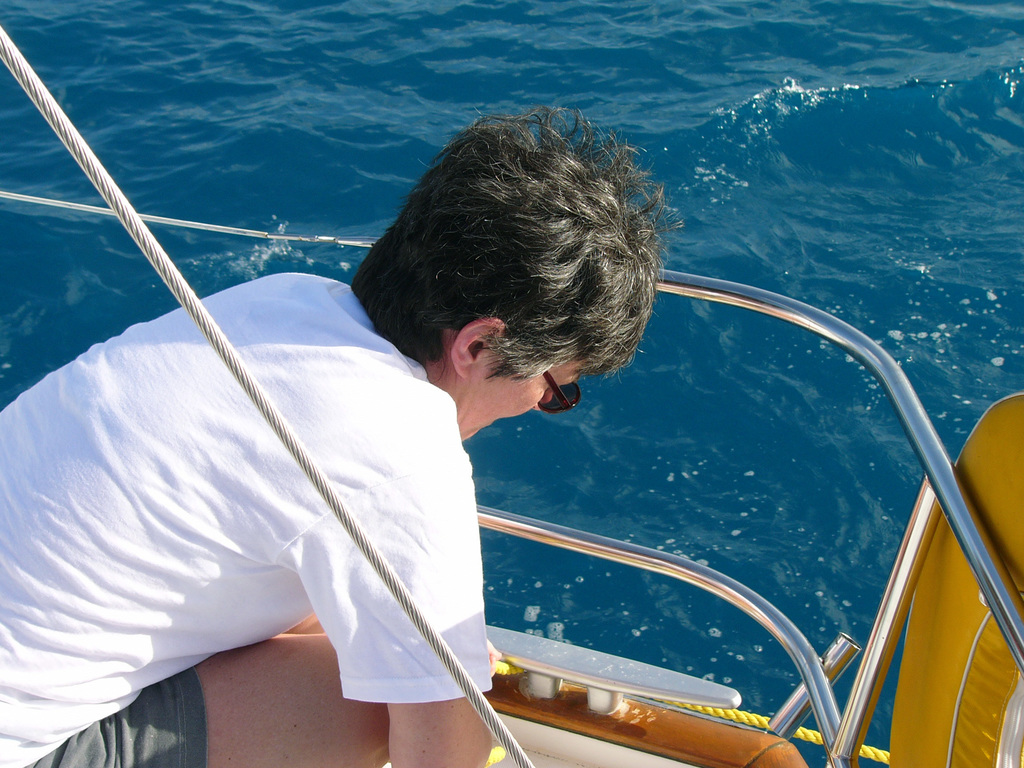Person: (0, 102, 685, 768)
